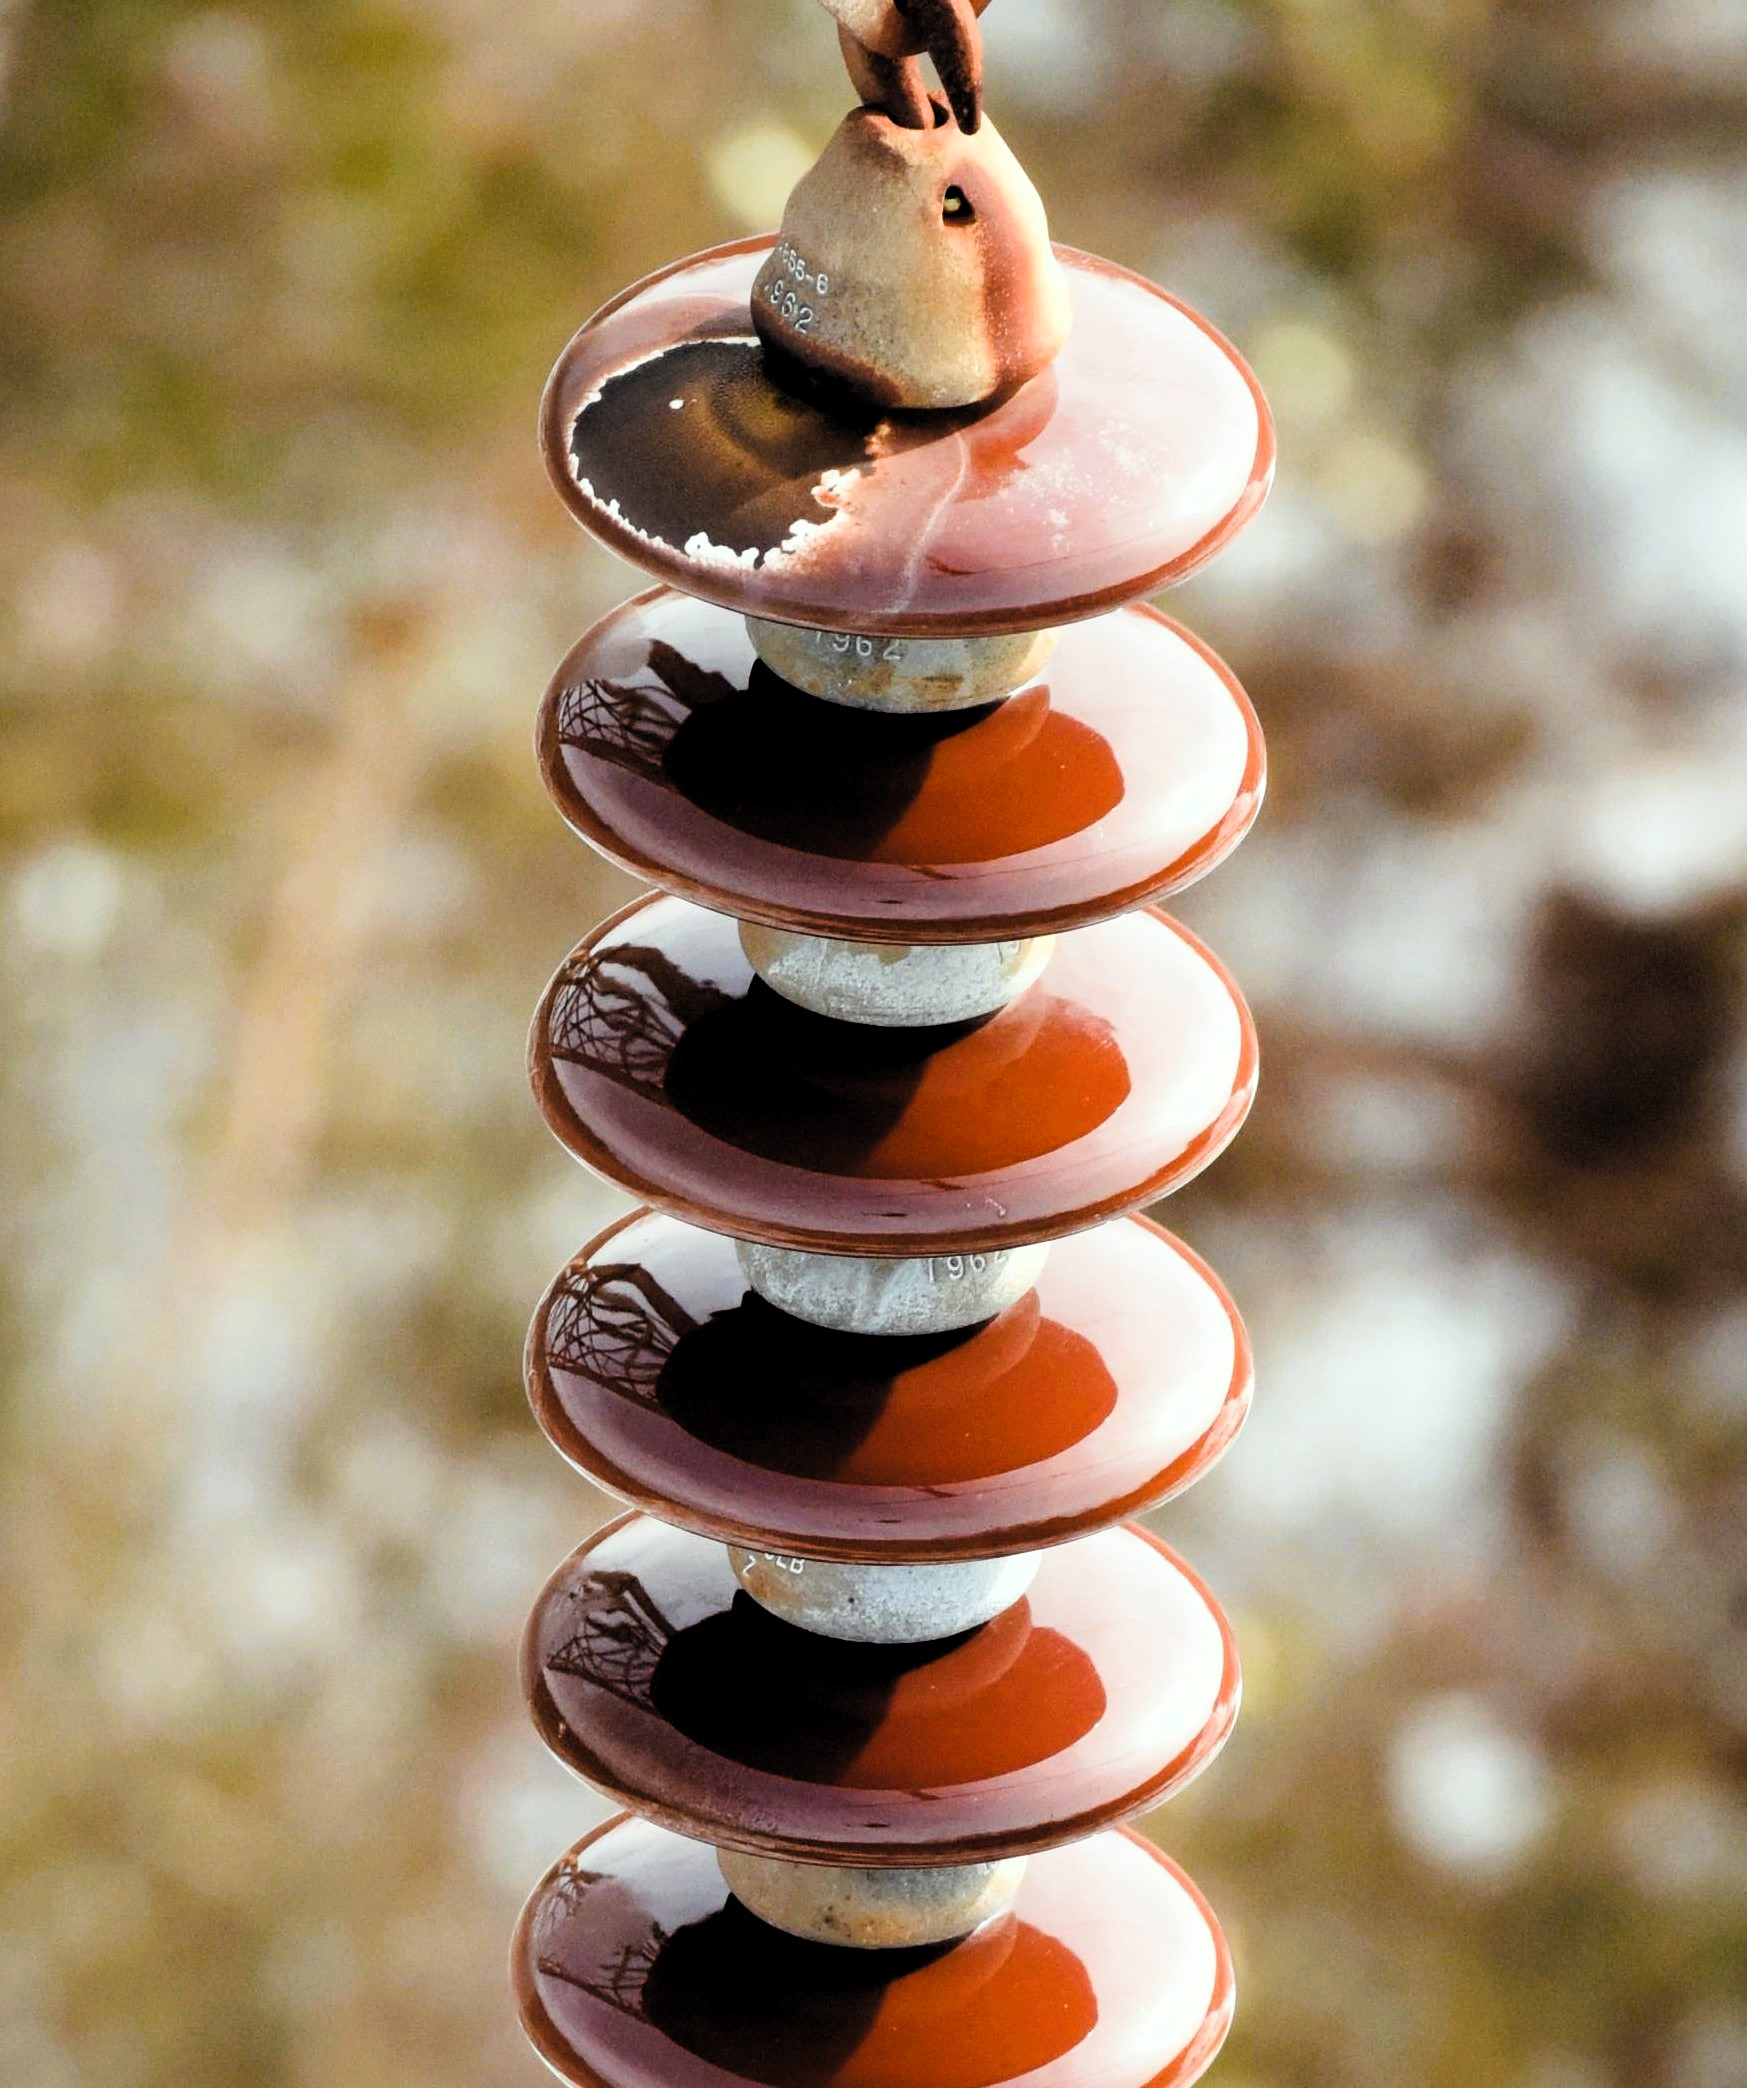Insulator flashover: (533, 199, 1303, 649)
